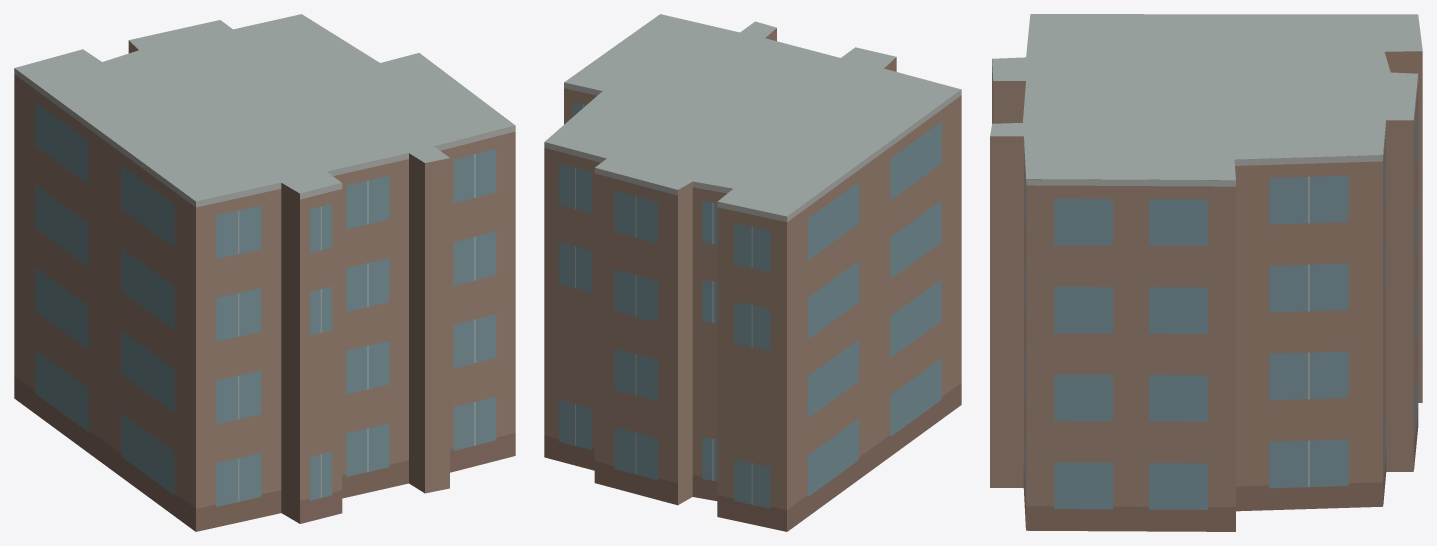
File: survey-upis-32505258.glb
3 views of the same model, side by side, from view 1: azimuth 30°, elevation 25°; view 2: azimuth 150°, elevation 25°; view 3: azimuth 270°, elevation 25° (orthographic). The views are drawn at different scales.
Parts seen in each view (by area): view 1: survey-upis-32505258.tmp; view 2: survey-upis-32505258.tmp; view 3: survey-upis-32505258.tmp.
Part boxes in pixels (x1,y1,x2,y2): survey-upis-32505258.tmp: (14, 14, 515, 531); survey-upis-32505258.tmp: (544, 14, 961, 531); survey-upis-32505258.tmp: (990, 14, 1422, 531).
Bounding box in the file's own units: 13.59 × 13.4 × 14.95.
